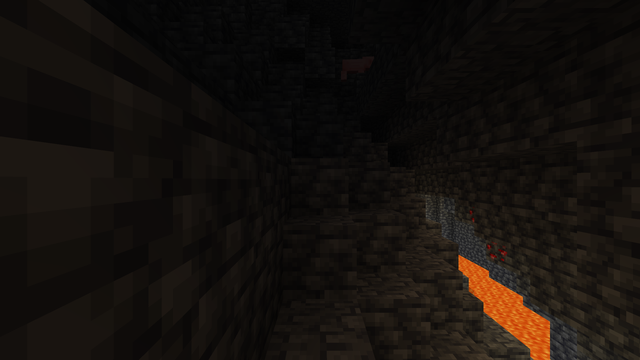cochons: (342, 57, 364, 81)
